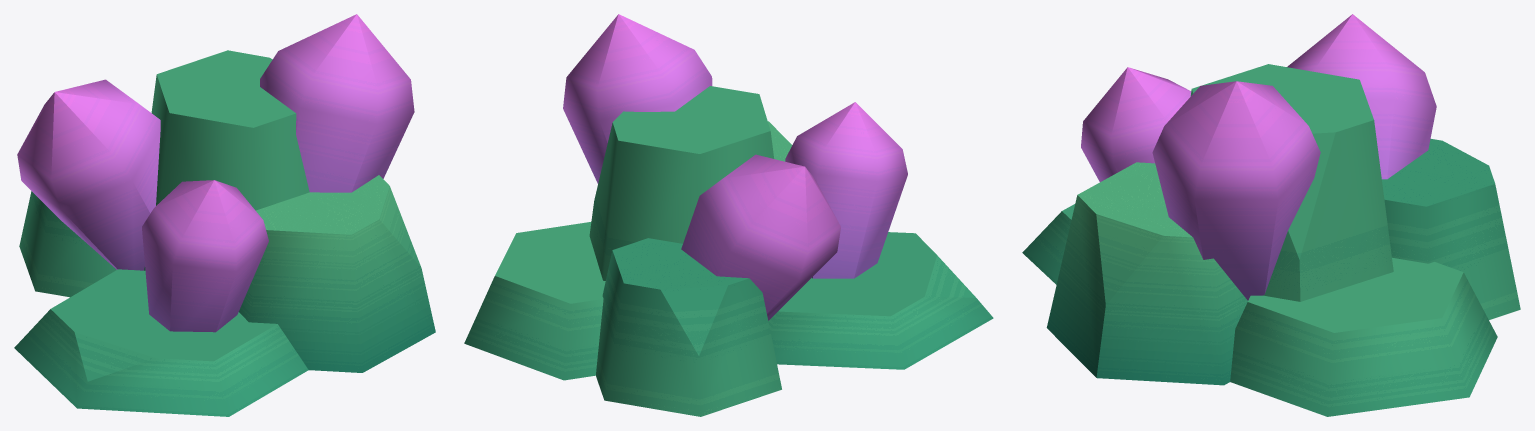
Rendered from crystal-large.glb.
3 views of the same model, side by side, from view 1: azimuth 30°, elevation 25°; view 2: azimuth 150°, elevation 25°; view 3: azimuth 270°, elevation 25° (orthographic). The views are drawn at different scales.
Parts seen in each view (by area): view 1: detail-crystal-large; view 2: detail-crystal-large; view 3: detail-crystal-large.
Boxes of the visible parts, bbox=[...] form: detail-crystal-large: bbox=[14, 14, 435, 416]; detail-crystal-large: bbox=[464, 14, 993, 416]; detail-crystal-large: bbox=[1022, 14, 1520, 416].
Bounding box in the file's own units: 0.8922 × 0.5518 × 0.8593.
1 material, 1 textured.
